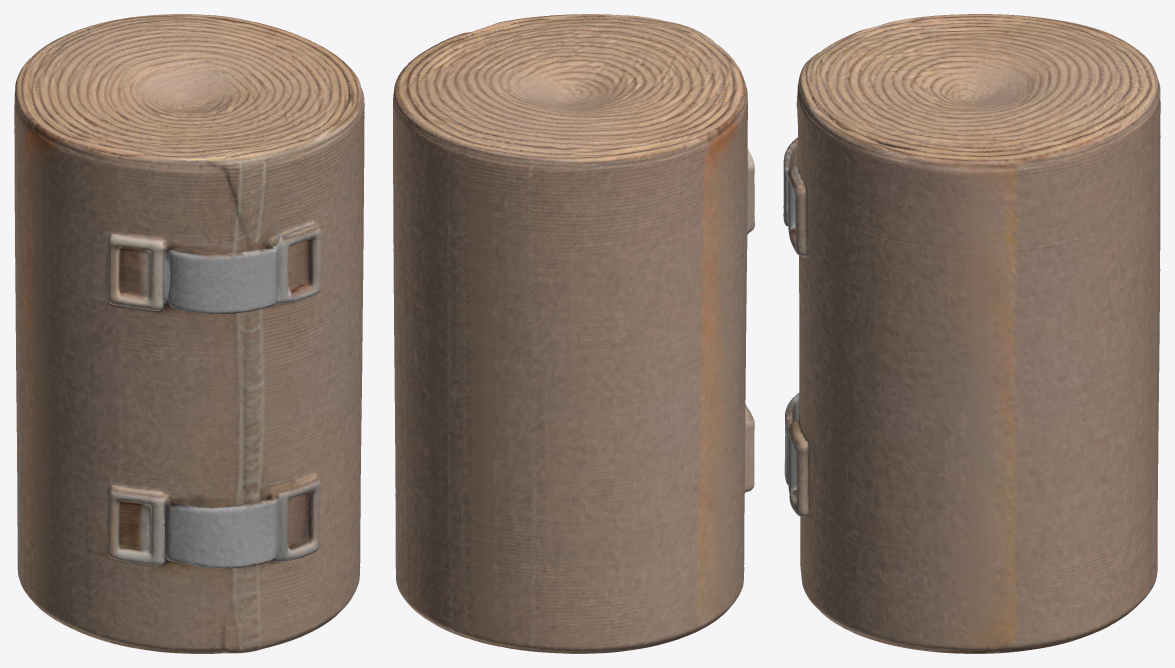
File: Medical Elastic Bandage B.fbx
3 renders of one model, left to right at view 1: azimuth 30°, elevation 25°; view 2: azimuth 150°, elevation 25°; view 3: azimuth 270°, elevation 25°, orthographic.
Visible parts, largest first — view 1: Medical Elastic Bandage B; view 2: Medical Elastic Bandage B; view 3: Medical Elastic Bandage B.
Boxes of the visible parts, bbox=[...] form: Medical Elastic Bandage B: bbox=[14, 14, 364, 653]; Medical Elastic Bandage B: bbox=[393, 14, 754, 653]; Medical Elastic Bandage B: bbox=[783, 14, 1160, 653].
Size of the model in its own units: 3.83 by 6.12 by 4.08.
1 material, 1 textured.
